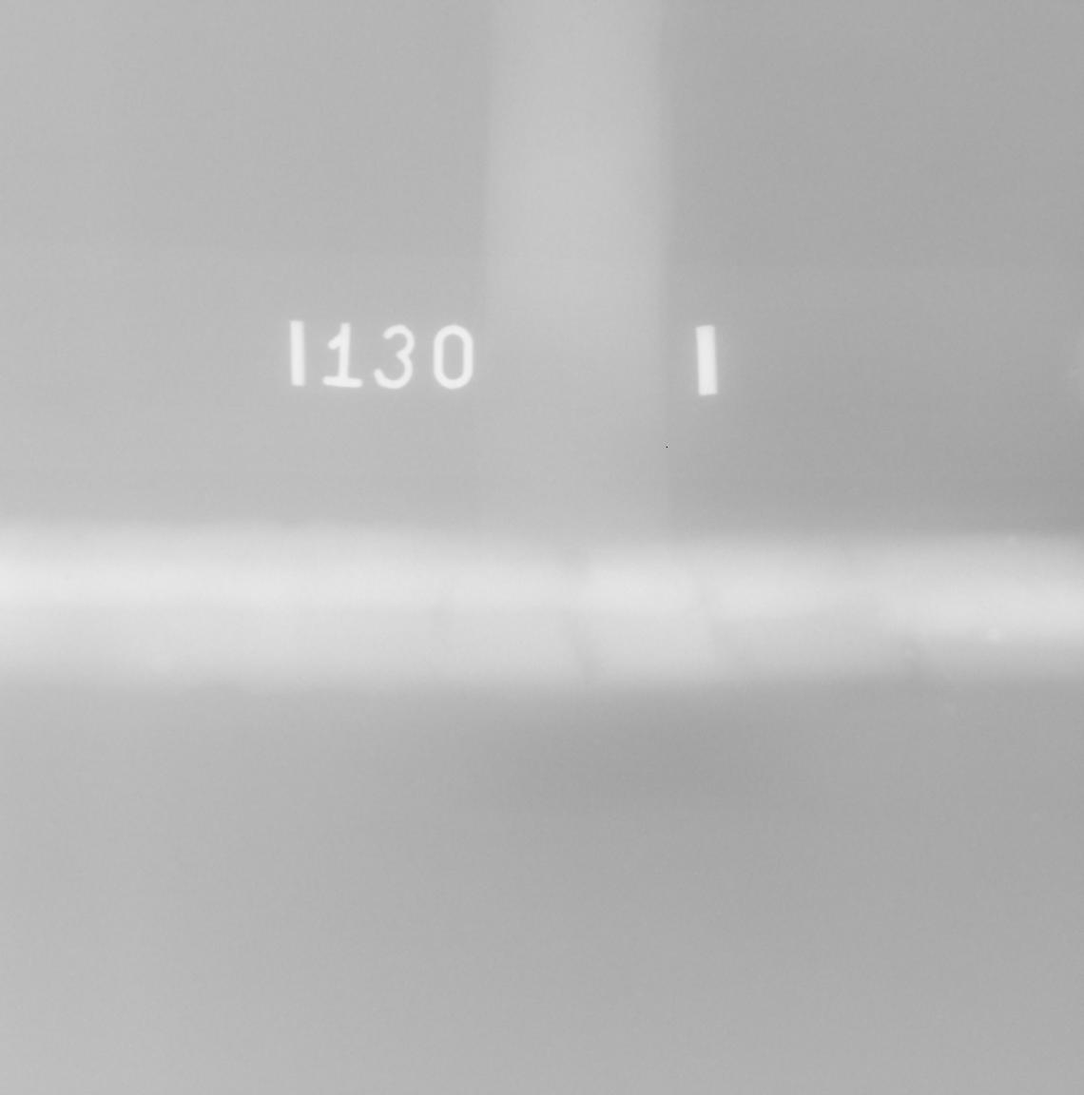Pore/Porosity: (72, 536, 81, 540), (64, 574, 68, 579)
